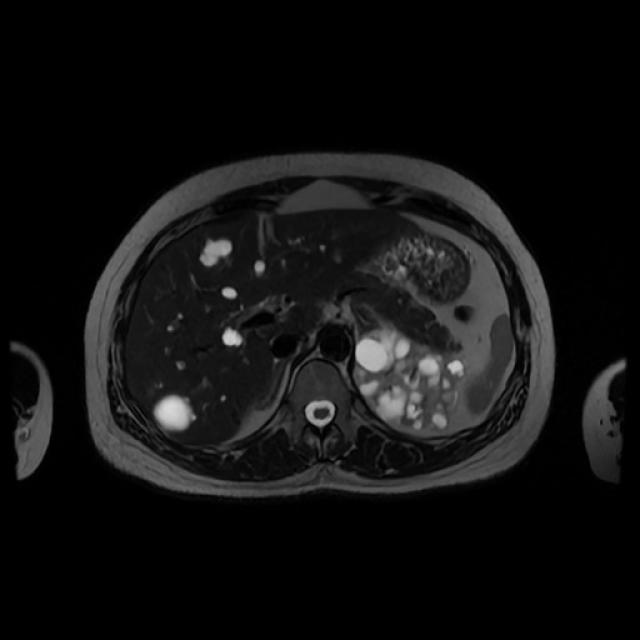sol: (356, 329, 465, 430)
